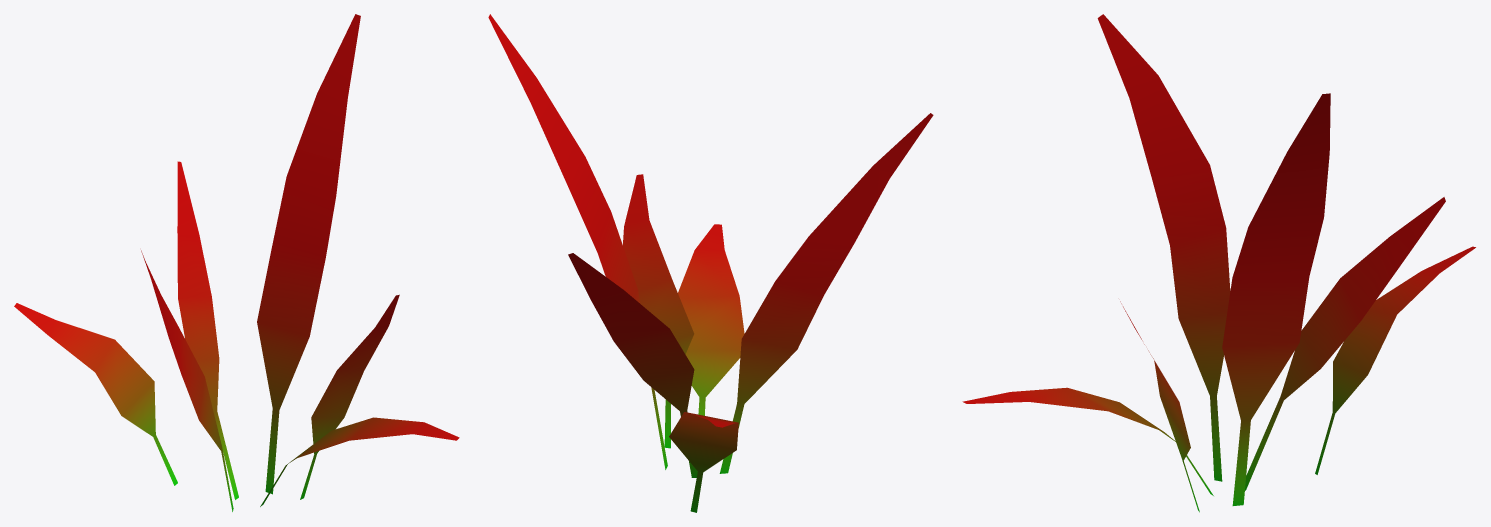
Rendered from Silvery Glade Fern_LOD2_Var2_xf5lebcqx.fbx.
The picture shows the model from 3 angles, left to right: view 1: azimuth 30°, elevation 25°; view 2: azimuth 150°, elevation 25°; view 3: azimuth 270°, elevation 25°; orthographic projection. The views are drawn at different scales.
Visible parts, largest first — view 1: _0qqq_Var2_LOD2; view 2: _0qqq_Var2_LOD2; view 3: _0qqq_Var2_LOD2.
Part boxes in pixels (box(x1,y1,x2,y2)): _0qqq_Var2_LOD2: box(14, 14, 459, 511); _0qqq_Var2_LOD2: box(488, 14, 933, 512); _0qqq_Var2_LOD2: box(962, 14, 1475, 512).
Bounding box in the file's own units: 11.94 × 15.21 × 14.58.
